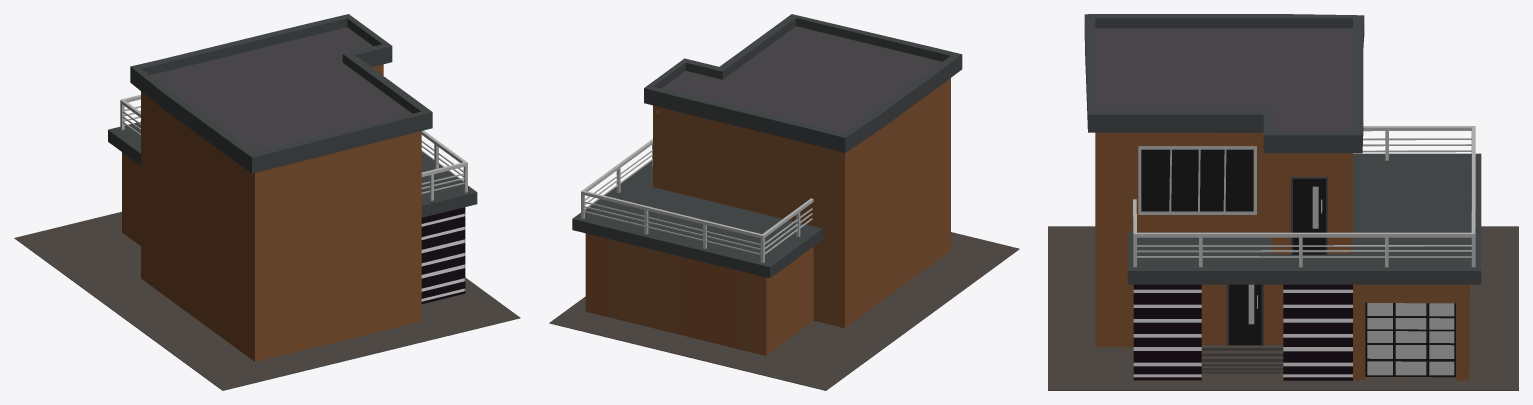
Rendered from Building_House3_Orange.fbx.
The picture shows the model from 3 angles, left to right: view 1: azimuth 30°, elevation 25°; view 2: azimuth 150°, elevation 25°; view 3: azimuth 270°, elevation 25°; orthographic projection. The views are drawn at different scales.
Visible parts, largest first — view 1: Cube, Plane, Plane.002; view 2: Cube, Plane; view 3: Cube, Plane, Plane.003, Plane.001.
Part boxes in pixels (left/top/right/bottom): Cube: left=108, top=14, right=477, bottom=361; Plane: left=14, top=211, right=520, bottom=390; Plane.002: left=421, top=207, right=464, bottom=303; Cube: left=572, top=14, right=962, bottom=355; Plane: left=549, top=232, right=1019, bottom=390; Cube: left=1084, top=14, right=1481, bottom=380; Plane: left=1048, top=226, right=1518, bottom=390; Plane.003: left=1283, top=284, right=1352, bottom=380; Plane.001: left=1133, top=284, right=1201, bottom=380.
Size of the model in its own units: 1100 by 743 by 1333.
